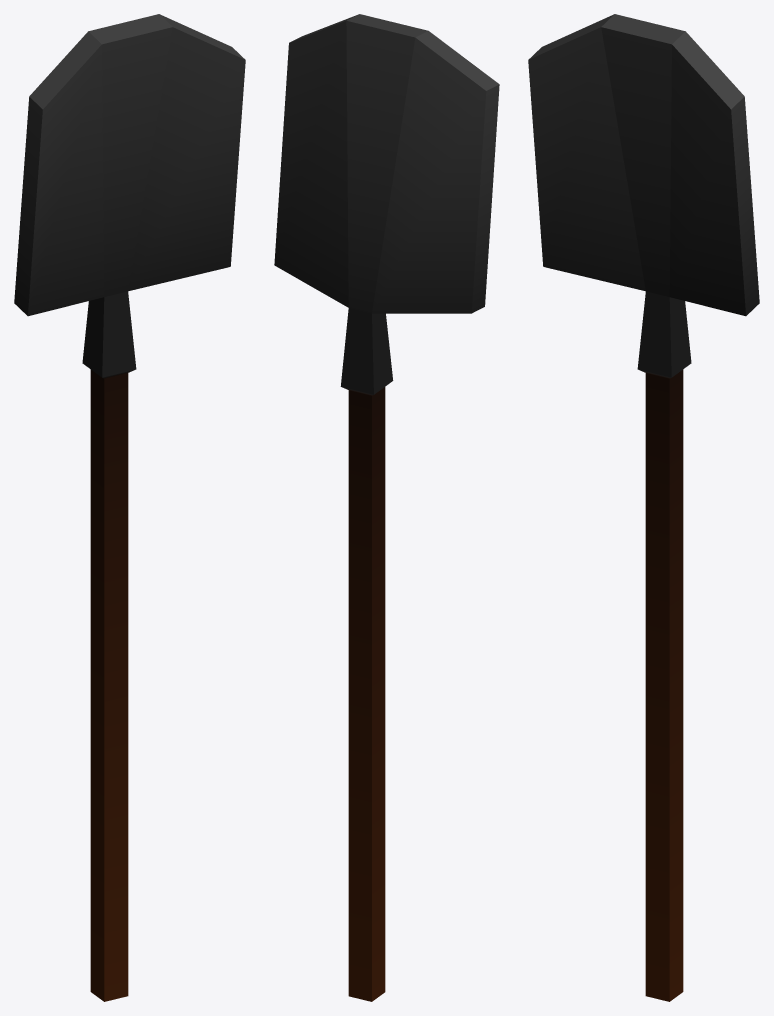
Rendered from spade.fbx.
The picture shows the model from 3 angles, left to right: view 1: azimuth 30°, elevation 25°; view 2: azimuth 150°, elevation 25°; view 3: azimuth 330°, elevation 25°; orthographic projection. The views are drawn at different scales.
Visible parts, largest first — view 1: Spade; view 2: Spade; view 3: Spade.
Part boxes in pixels (box(x1,y1,x2,y2)): Spade: box(14, 14, 245, 1001); Spade: box(274, 14, 499, 1001); Spade: box(528, 14, 759, 1001).
Size of the model in its own units: 0.3916 by 1.81 by 0.1497.
